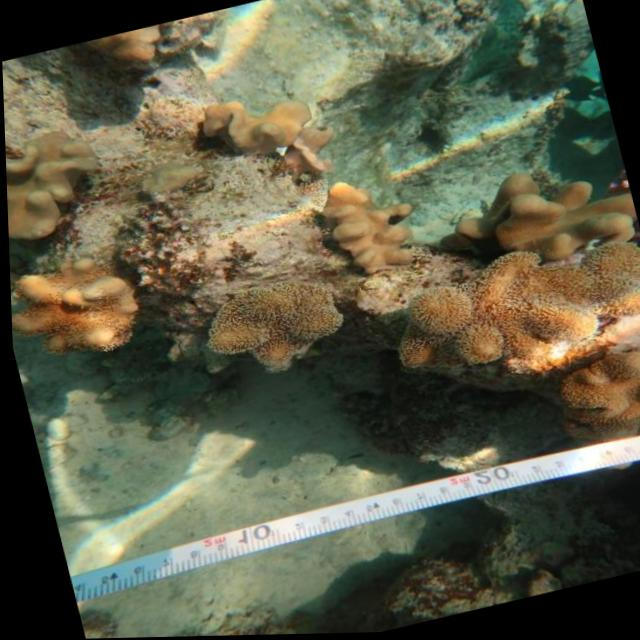Healthy Coral: (365, 229, 640, 399), (445, 148, 640, 284), (7, 241, 156, 375), (198, 264, 355, 386), (307, 165, 430, 289), (3, 115, 107, 254), (193, 73, 325, 171), (531, 340, 640, 458)
